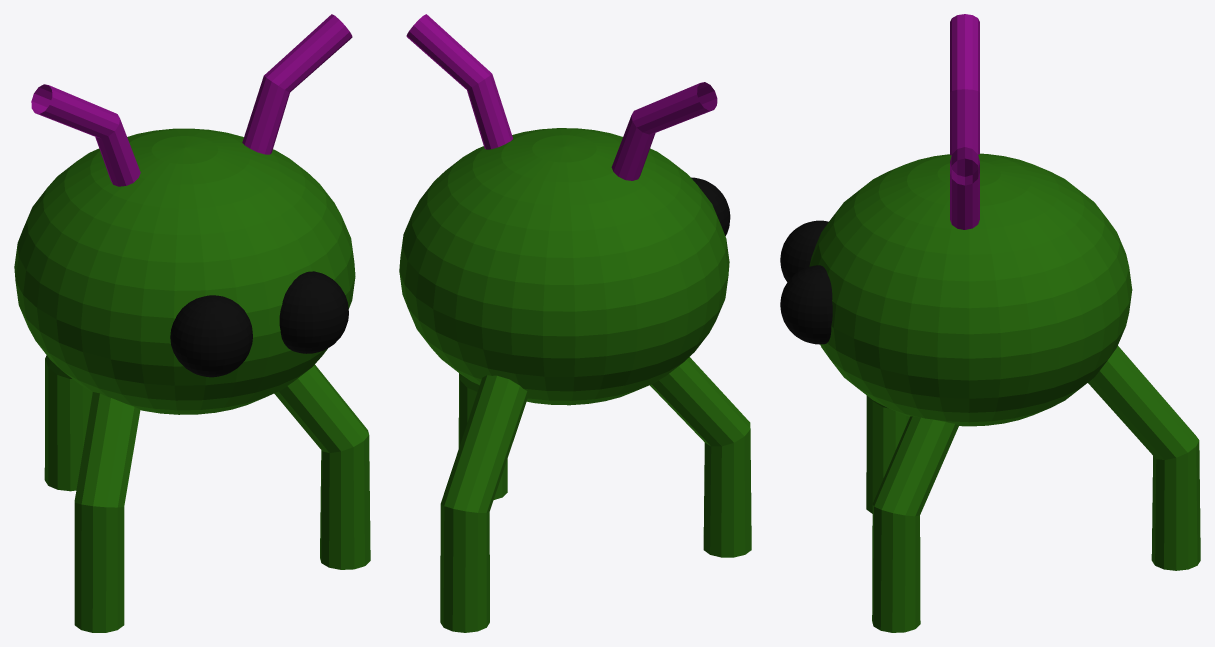
The model's file is defender_alien1.obj.
3 renders of one model, left to right at view 1: azimuth 30°, elevation 25°; view 2: azimuth 150°, elevation 25°; view 3: azimuth 270°, elevation 25°, orthographic. The views are drawn at different scales.
Visible parts, largest first — view 1: Vert.001; view 2: Vert.001; view 3: Vert.001.
Part boxes in pixels (x1,y1,x2,y2): Vert.001: (14,14,370,632); Vert.001: (399,14,751,632); Vert.001: (780,14,1200,632).
Bounding box in the file's own units: 2.55 × 3.96 × 3.09.
